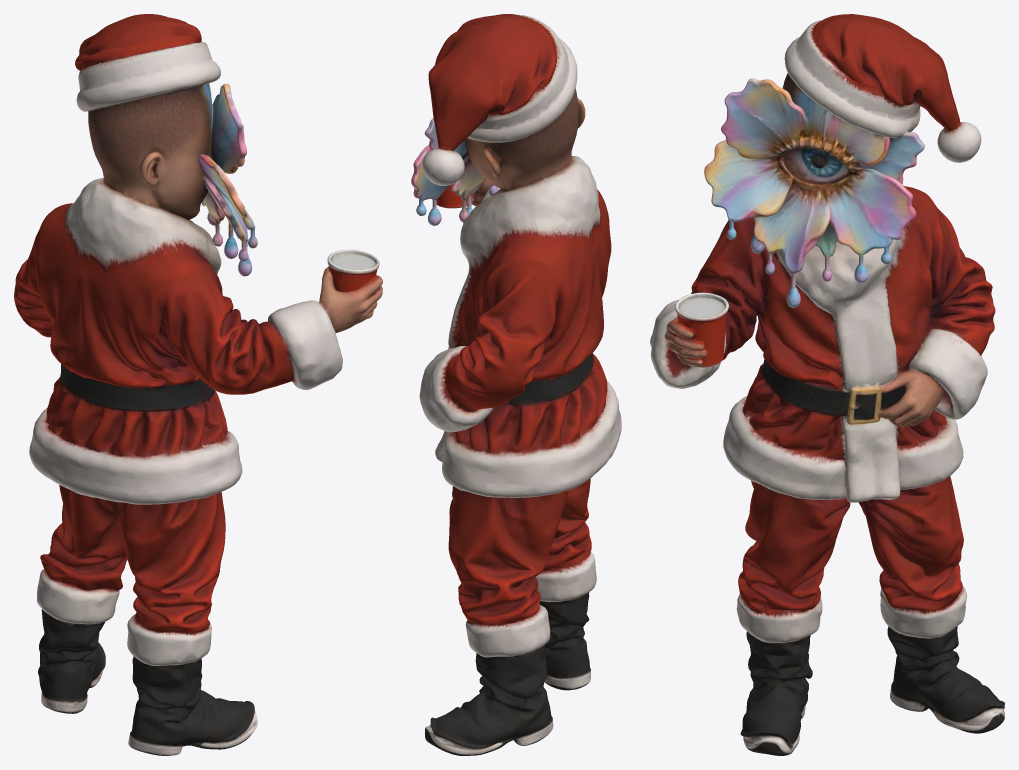
File: oy_santa.glb
3 renders of one model, left to right at view 1: azimuth 30°, elevation 25°; view 2: azimuth 150°, elevation 25°; view 3: azimuth 270°, elevation 25°, orthographic. The views are drawn at different scales.
Visible parts, largest first — view 1: tripo_node_031b8fdd-5e0d-4372-a7a1-0bba463514e1; view 2: tripo_node_031b8fdd-5e0d-4372-a7a1-0bba463514e1; view 3: tripo_node_031b8fdd-5e0d-4372-a7a1-0bba463514e1.
Part boxes in pixels (x1=…): tripo_node_031b8fdd-5e0d-4372-a7a1-0bba463514e1: x1=14, y1=14, x2=382, y2=755; tripo_node_031b8fdd-5e0d-4372-a7a1-0bba463514e1: x1=411, y1=14, x2=621, y2=755; tripo_node_031b8fdd-5e0d-4372-a7a1-0bba463514e1: x1=650, y1=14, x2=1004, y2=755.
Bounding box in the file's own units: 0.3788 × 1 × 0.4524.
1 material, 1 textured.
